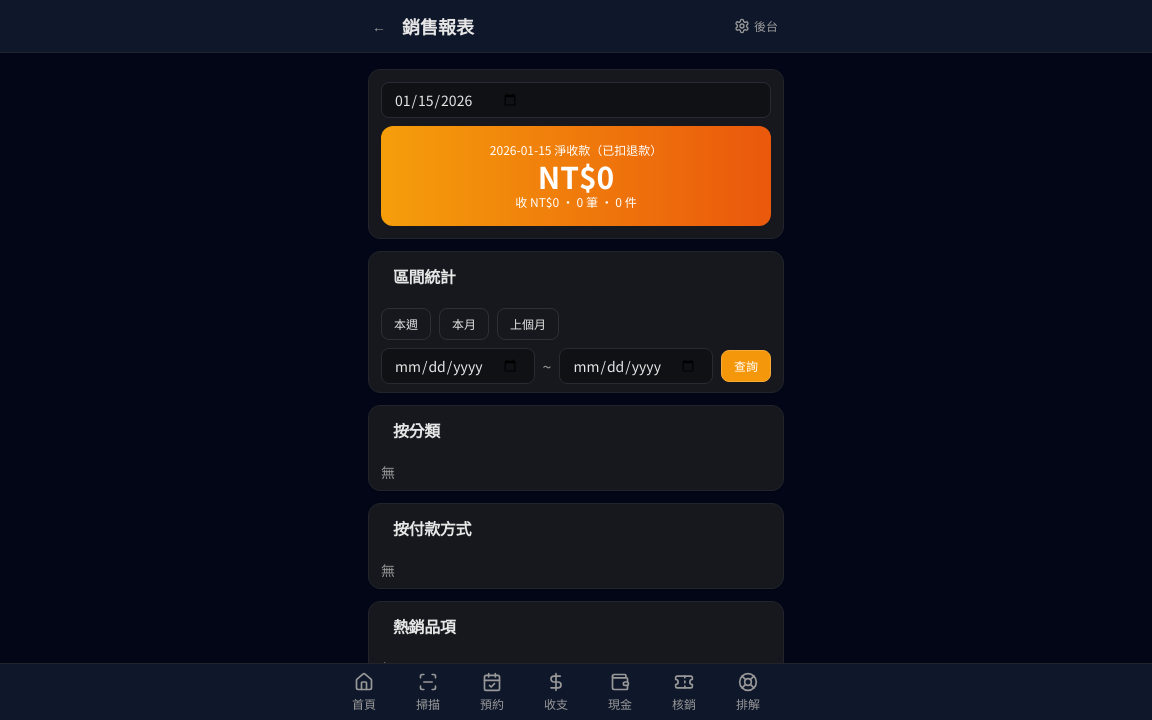
PosReports — 區間統計 › 點「本週」→ 以台北時區週一起算
This screenshot has width=1152, height=720.
Click the button with test id "range-week": (406,324) [381,308,431,340]
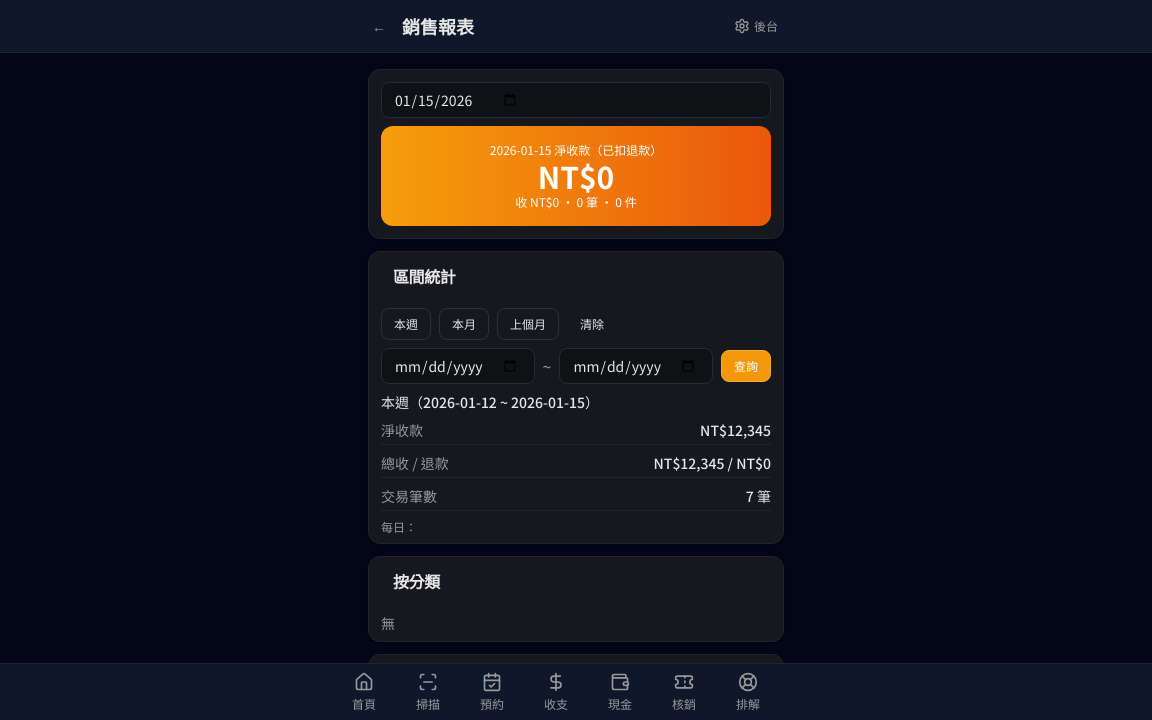
Now the text "本週（2026-01-12 ~ 2026-01-15）" is shown, box [381,392,599,412]
